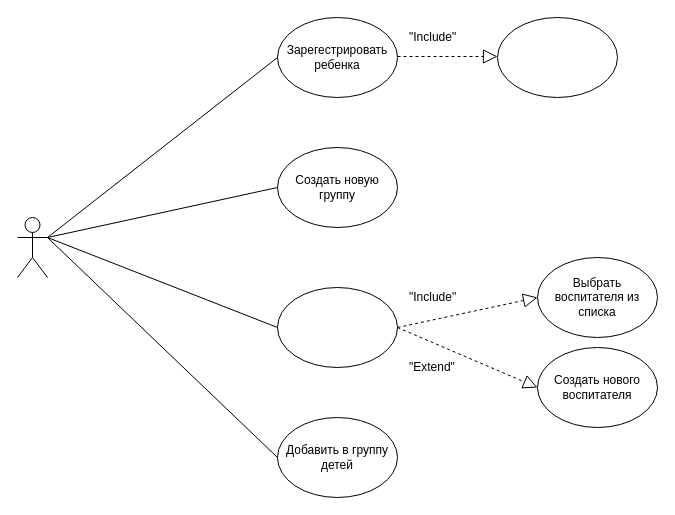
Image size: 675x515. Some labels were removed from this diagram. Each missing label, with the centre of its shape:
"Actor" goes at (32,247).
"Добавить в группу воспитателя" goes at (337,327).
"Указать ФИО, возраст, родителей" goes at (557,57).
